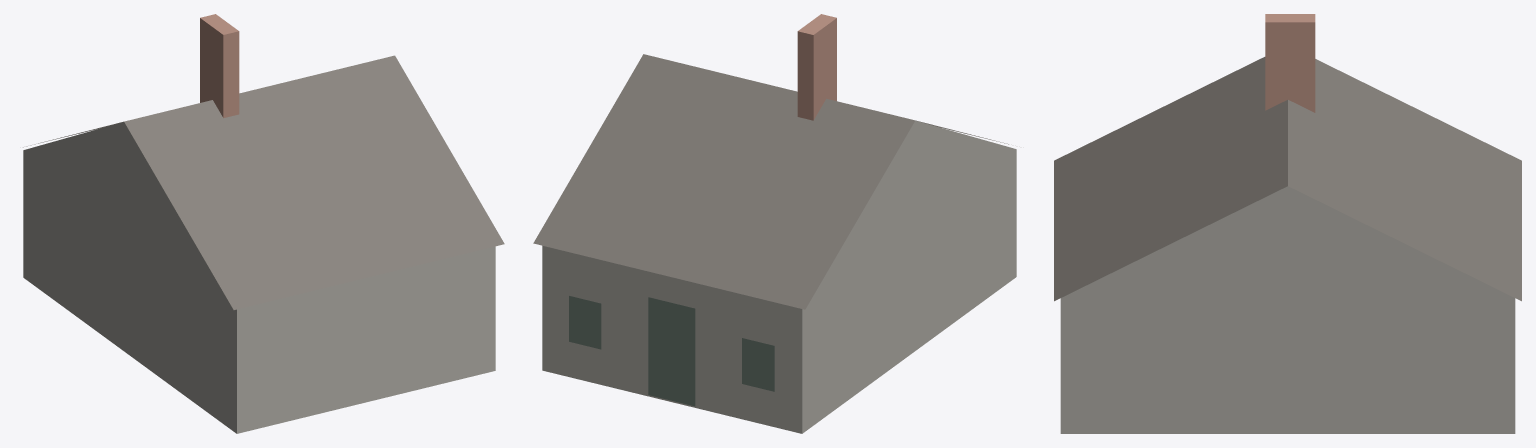
Rendered from recon_1835_south_d4_006__recommended_1835.glb.
The picture shows the model from 3 angles, left to right: view 1: azimuth 30°, elevation 25°; view 2: azimuth 150°, elevation 25°; view 3: azimuth 270°, elevation 25°; orthographic projection. The views are drawn at different scales.
Parts seen in each view (by area): view 1: recon_1835_south_d4_006__recommended_1835; view 2: recon_1835_south_d4_006__recommended_1835; view 3: recon_1835_south_d4_006__recommended_1835.
Boxes of the visible parts, x1,y1,x2,y2 form: recon_1835_south_d4_006__recommended_1835: (23,14,504,433); recon_1835_south_d4_006__recommended_1835: (533,14,1016,433); recon_1835_south_d4_006__recommended_1835: (1054,14,1521,433).
Bounding box in the file's own units: 6.19 × 6.73 × 8.68.
